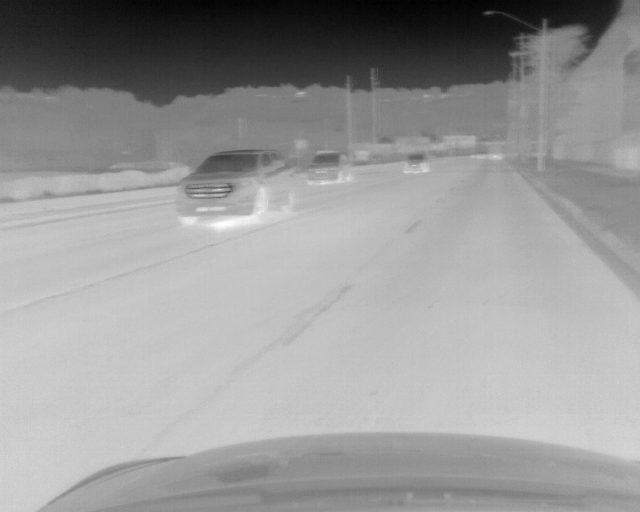car: (175, 149, 295, 218), (306, 151, 352, 182), (405, 154, 426, 173)
